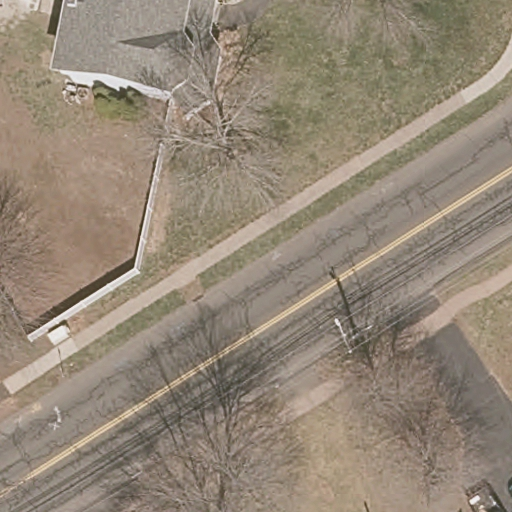DT: (334, 318, 360, 354)
